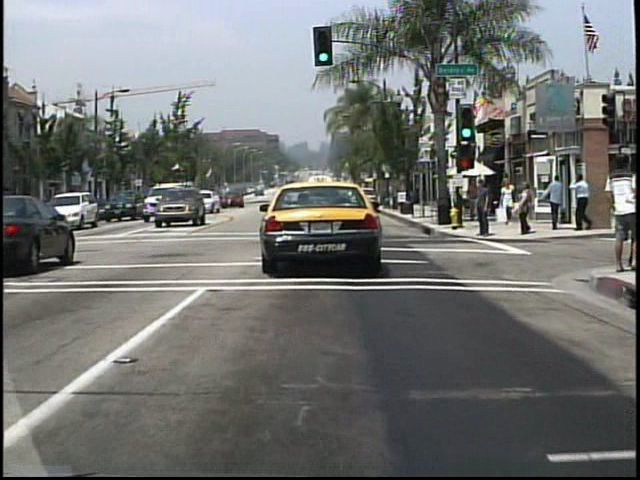person: (600, 150, 638, 276), (569, 170, 594, 231), (545, 173, 565, 232), (475, 180, 494, 239), (465, 178, 485, 226), (516, 183, 534, 235), (500, 178, 517, 228)
